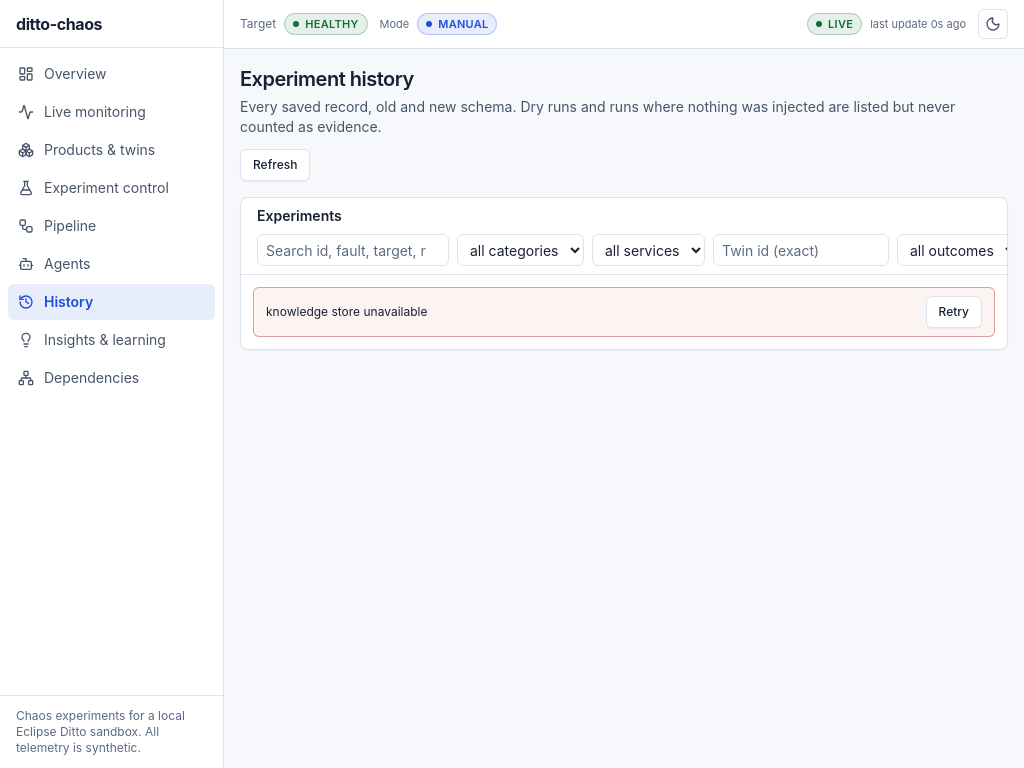
Test case: History › shows empty and error states with a retry
Expected: the text "knowledge store unavailable" is shown, x1=266 y1=302 x2=428 y2=322
What coordinates should you click on to do the following:
click the button "Retry"
I would click on:
 (954, 312)
Its box is x1=926 y1=296 x2=982 y2=328.
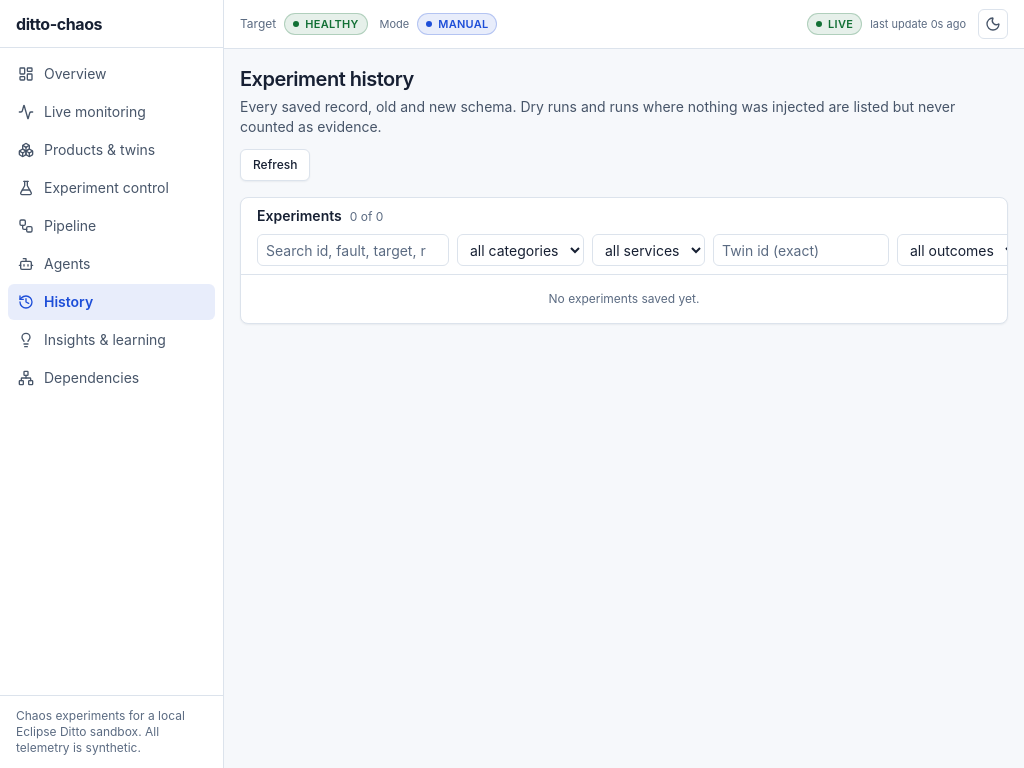
Result: the text "No experiments saved yet." is shown at x1=548 y1=291 x2=699 y2=306
